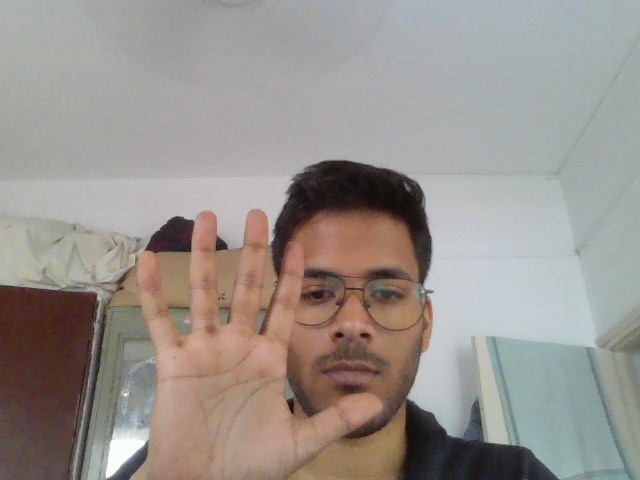hello: (125, 203, 398, 480)
